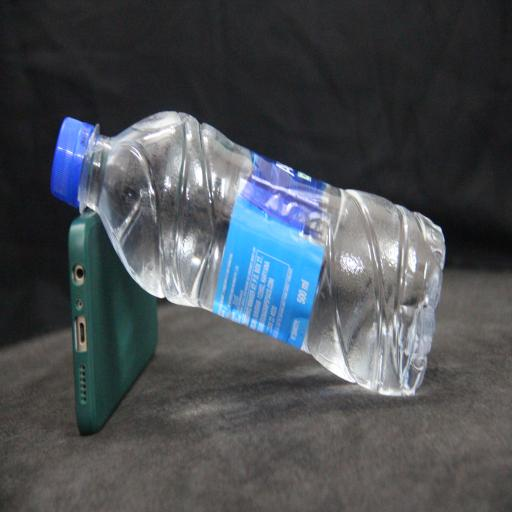Aquafina: (51, 112, 445, 396)
